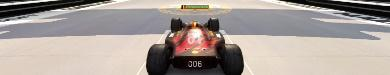Car: (145, 16, 244, 74)
Solid White and black: (180, 4, 209, 9)
